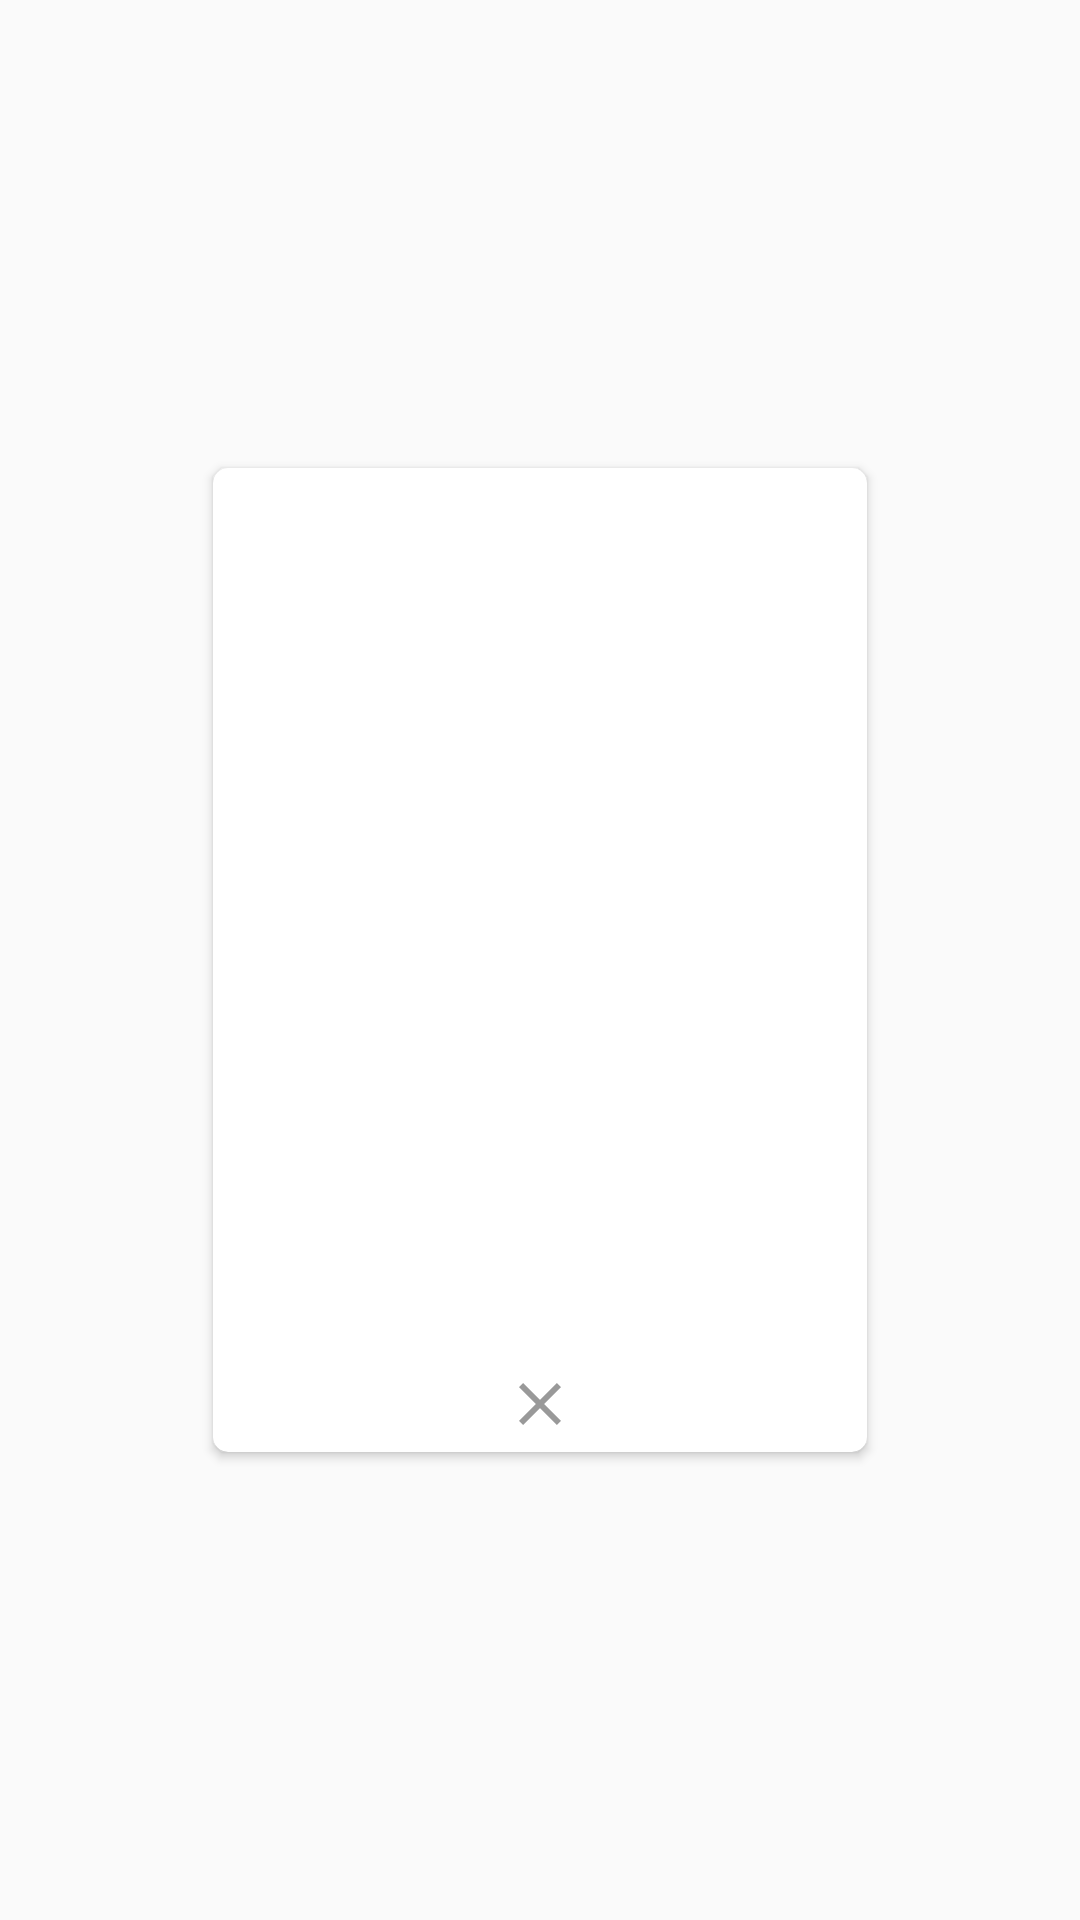

Where to tap for icons on this 1080x1920 app screen, as point (x, y):
clear: point (540, 1404)
